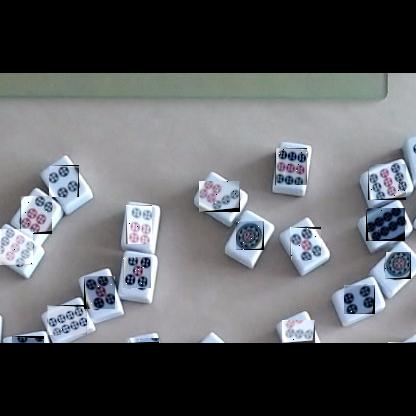1p: (236, 221, 264, 250), (385, 252, 411, 279)
4p: (49, 165, 79, 197), (344, 285, 375, 314), (12, 336, 44, 343)
5p: (84, 276, 115, 309), (290, 227, 321, 260), (123, 257, 151, 288)
6p: (20, 196, 52, 234), (126, 205, 152, 244)
7p: (199, 181, 240, 212), (282, 320, 315, 343), (130, 338, 159, 343)
8p: (366, 208, 405, 241), (47, 305, 87, 335), (388, 342, 416, 343)
9p: (368, 164, 406, 200), (0, 229, 33, 265), (275, 148, 307, 185)
